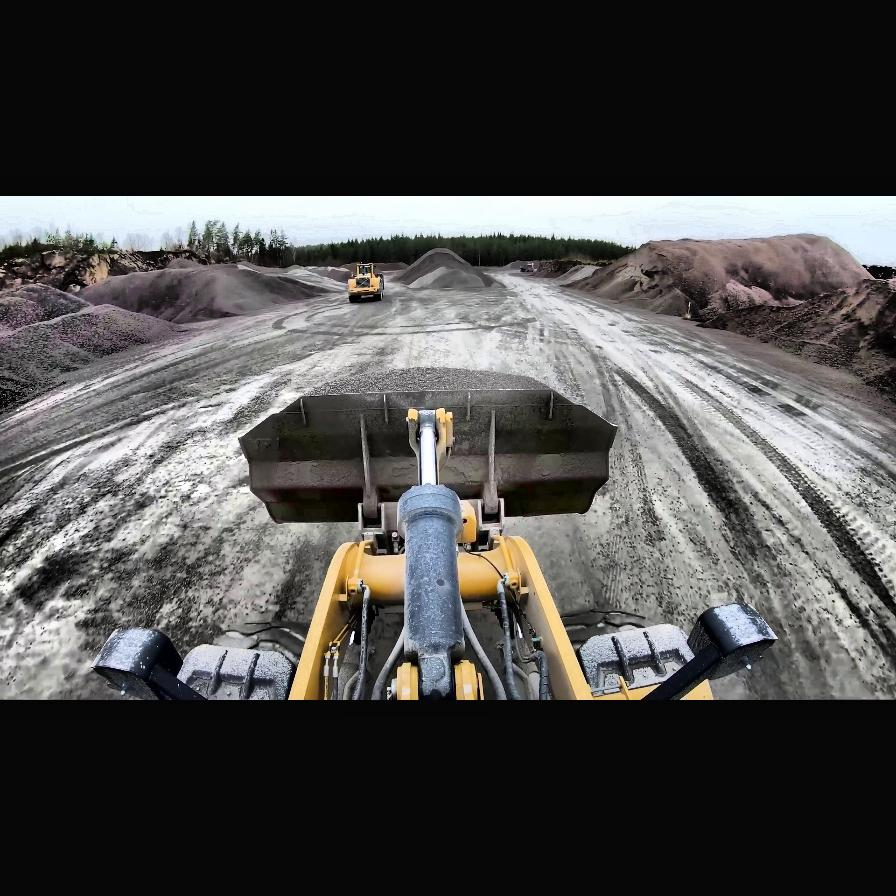anchor: (406, 407, 454, 482)
pile of gravel: (593, 232, 885, 324), (680, 273, 896, 395), (76, 262, 328, 326), (2, 300, 184, 365), (578, 254, 682, 309), (2, 284, 90, 330), (391, 248, 489, 288), (556, 264, 600, 284)
